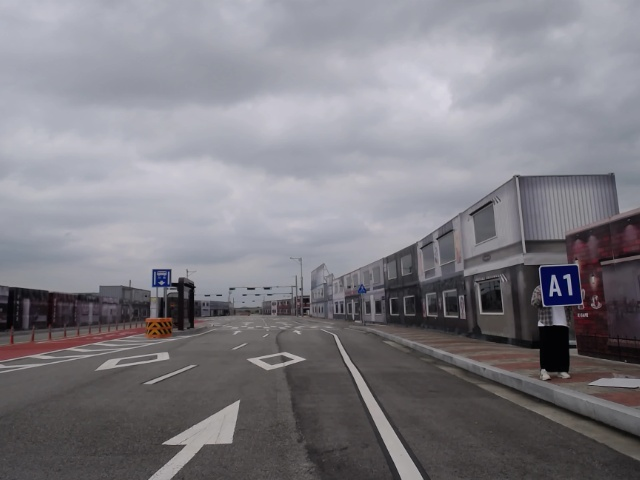delivery_a1: (539, 264, 583, 306)
